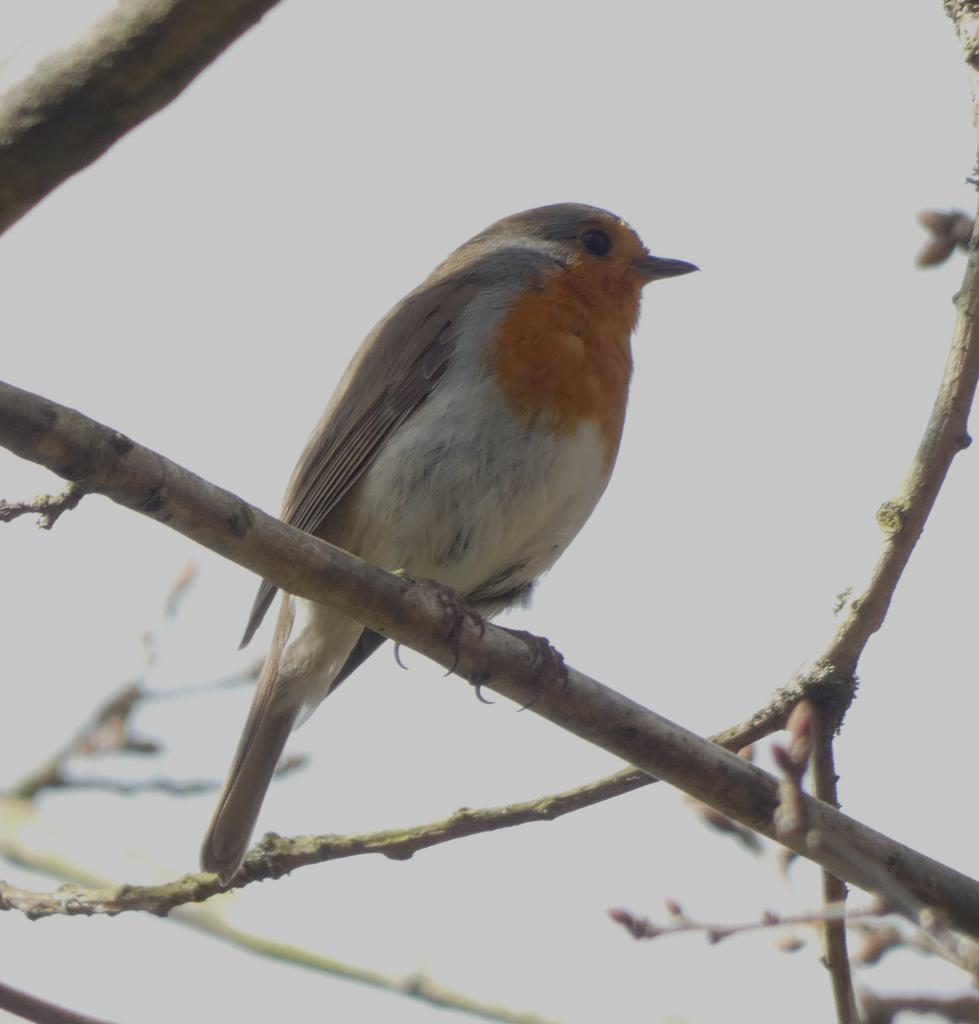ErithacusRubecula: (199, 201, 701, 888)
